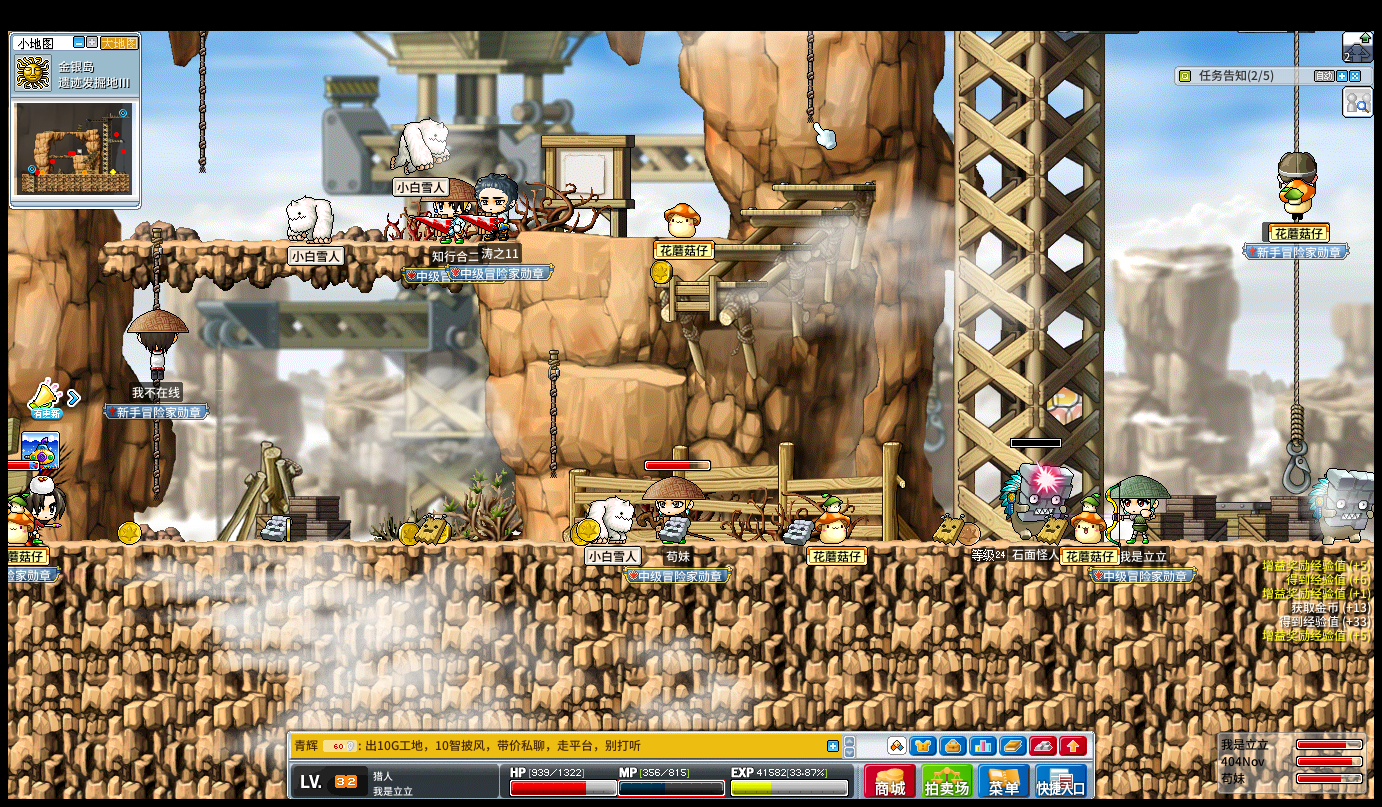floor: (102, 238, 479, 247), (578, 364, 688, 385), (602, 232, 739, 240), (650, 279, 766, 287), (736, 207, 849, 215), (704, 243, 810, 251), (771, 184, 875, 191)
monster: (999, 464, 1065, 540), (1308, 466, 1373, 542)
rope: (545, 350, 561, 482), (1291, 257, 1302, 406), (198, 29, 207, 173), (152, 419, 164, 505), (150, 227, 161, 308), (805, 29, 814, 123), (1292, 29, 1299, 148), (151, 419, 160, 502), (1289, 400, 1304, 444)
